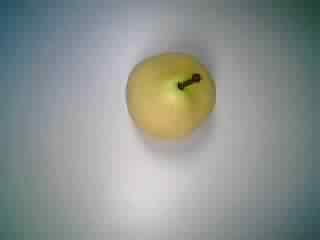pear: (115, 47, 224, 149)
